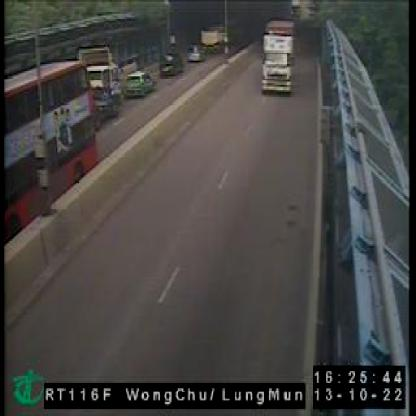Bus: (5, 58, 93, 251)
Car: (124, 69, 156, 99), (160, 50, 184, 76)
Truck: (261, 21, 297, 95)
